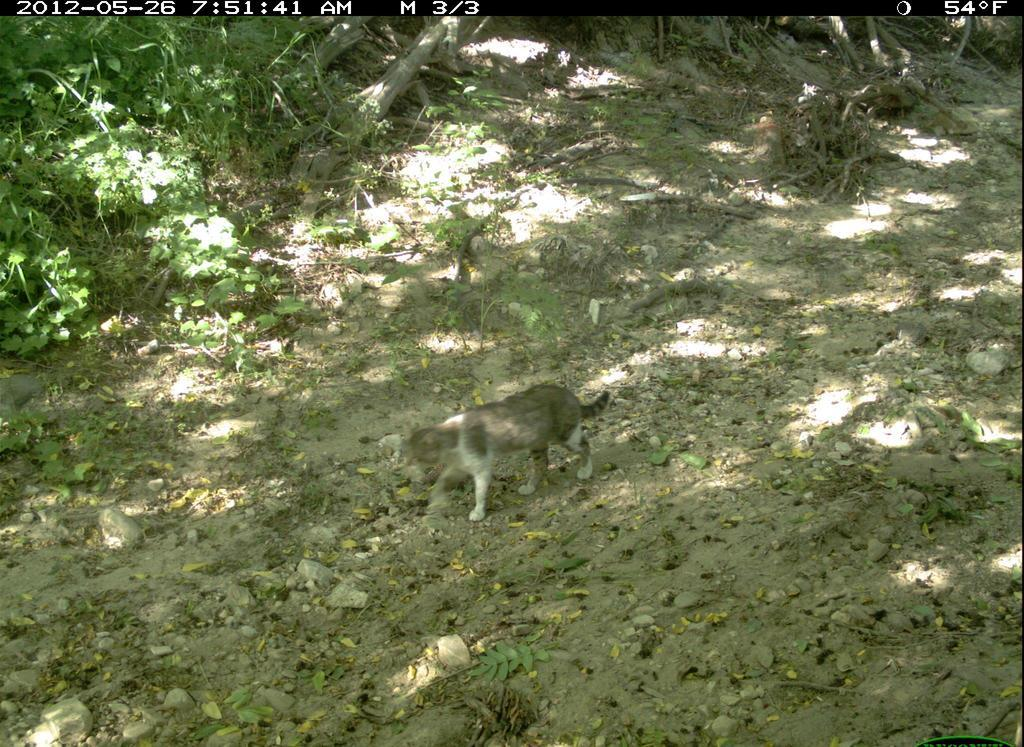cat: (399, 383, 624, 528)
